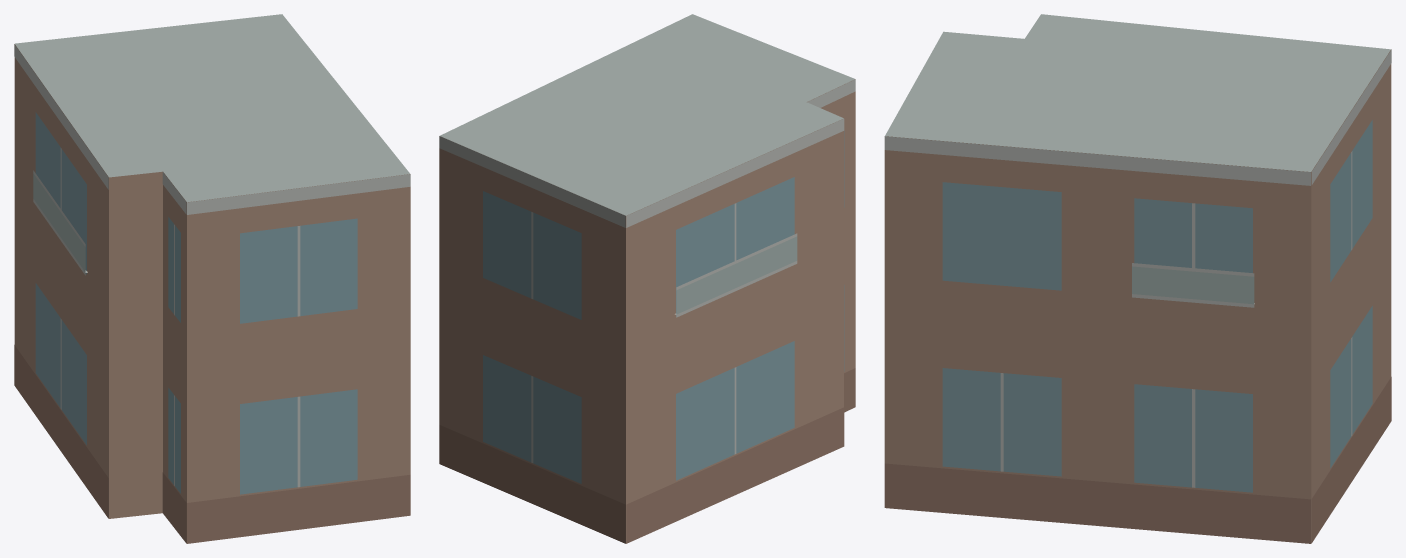
File: survey-upis-32494784.glb
3 renders of one model, left to right at view 1: azimuth 30°, elevation 25°; view 2: azimuth 150°, elevation 25°; view 3: azimuth 270°, elevation 25°, orthographic. The views are drawn at different scales.
Visible parts, largest first — view 1: survey-upis-32494784.tmp; view 2: survey-upis-32494784.tmp; view 3: survey-upis-32494784.tmp.
Boxes of the visible parts, box(x1,y1,x2,y2) form: survey-upis-32494784.tmp: box(14, 14, 410, 543); survey-upis-32494784.tmp: box(439, 14, 855, 543); survey-upis-32494784.tmp: box(884, 14, 1391, 543).
Size of the model in its own units: 5.93 by 6.5 by 8.04.
